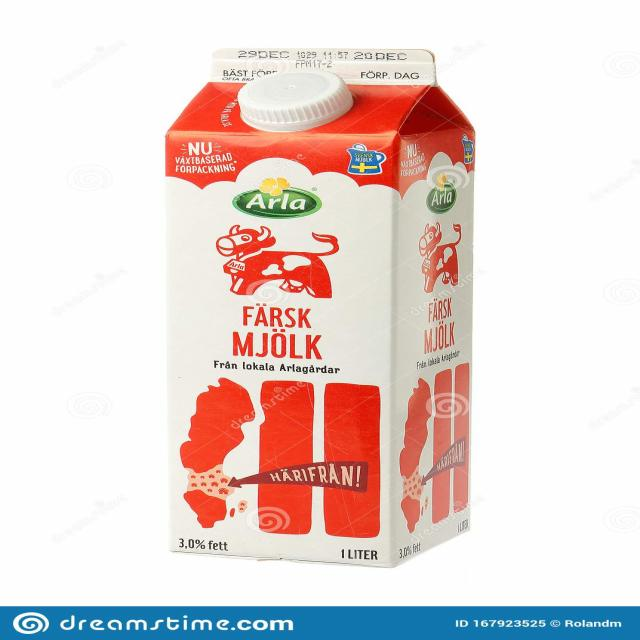non_white_jug: (147, 32, 485, 572)
